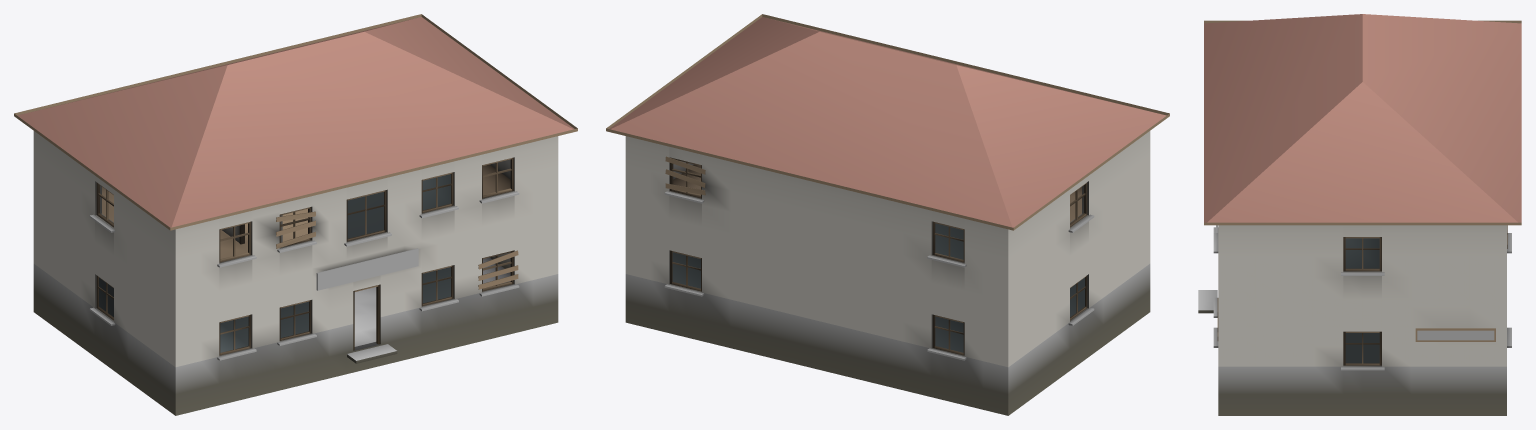
Rendered from townhall.glb.
The picture shows the model from 3 angles, left to right: view 1: azimuth 30°, elevation 25°; view 2: azimuth 150°, elevation 25°; view 3: azimuth 270°, elevation 25°; orthographic projection.
Parts seen in each view (by area): view 1: townhall; view 2: townhall; view 3: townhall.
Part boxes in pixels (x1,y1,x2,y2): townhall: (14, 14, 577, 415); townhall: (606, 14, 1169, 415); townhall: (1198, 14, 1521, 415).
Bounding box in the file's own units: 14.9 × 9.39 × 10.07.
